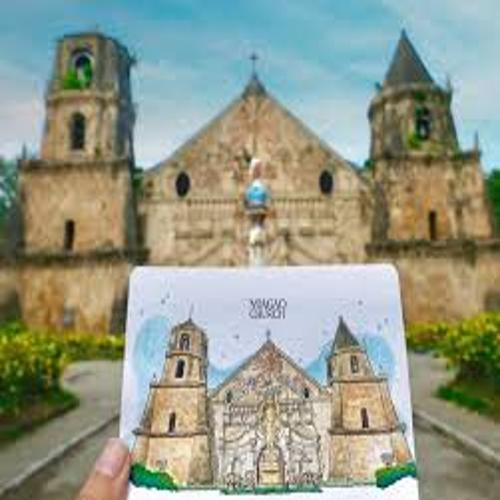Miagao Church: (22, 23, 500, 374), (132, 304, 409, 491)
